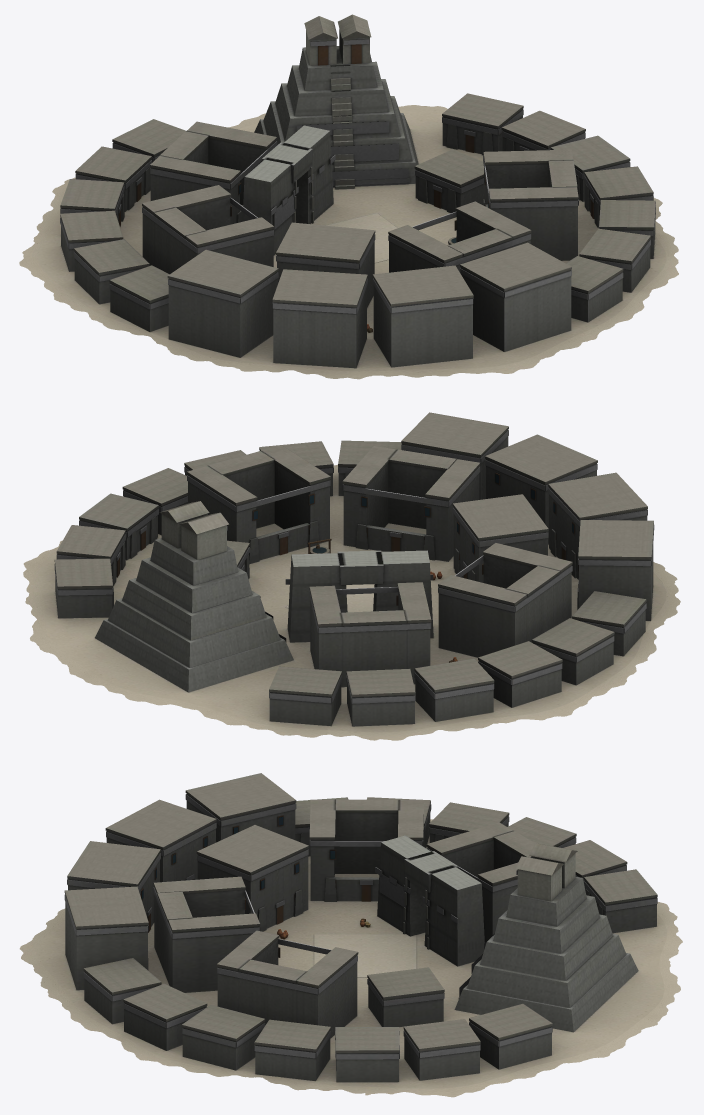
Rendered from kingdoms-town-big-b-americas.glb.
The picture shows the model from 3 angles, top to bottom: view 1: azimuth 30°, elevation 25°; view 2: azimuth 150°, elevation 25°; view 3: azimuth 270°, elevation 25°; orthographic projection.
Visible parts, largest first — view 1: LOD0; view 2: LOD0; view 3: LOD0.
Part boxes in pixels (box(x1,y1,x2,y2)): LOD0: box(19, 14, 678, 379); LOD0: box(23, 412, 680, 740); LOD0: box(19, 773, 682, 1097).
Size of what is drawn, in the model's own units: 7.95 by 1.81 by 7.97.
Materials: 3 (3 with a texture image).
